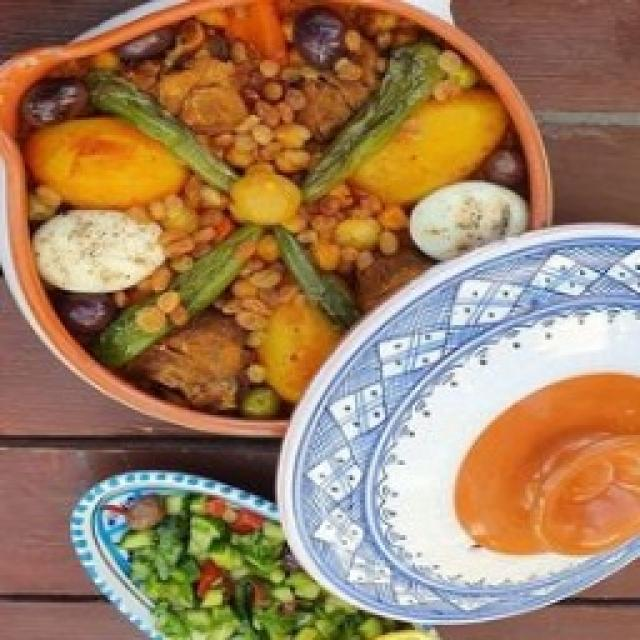Couscous: (8, 0, 545, 432)
